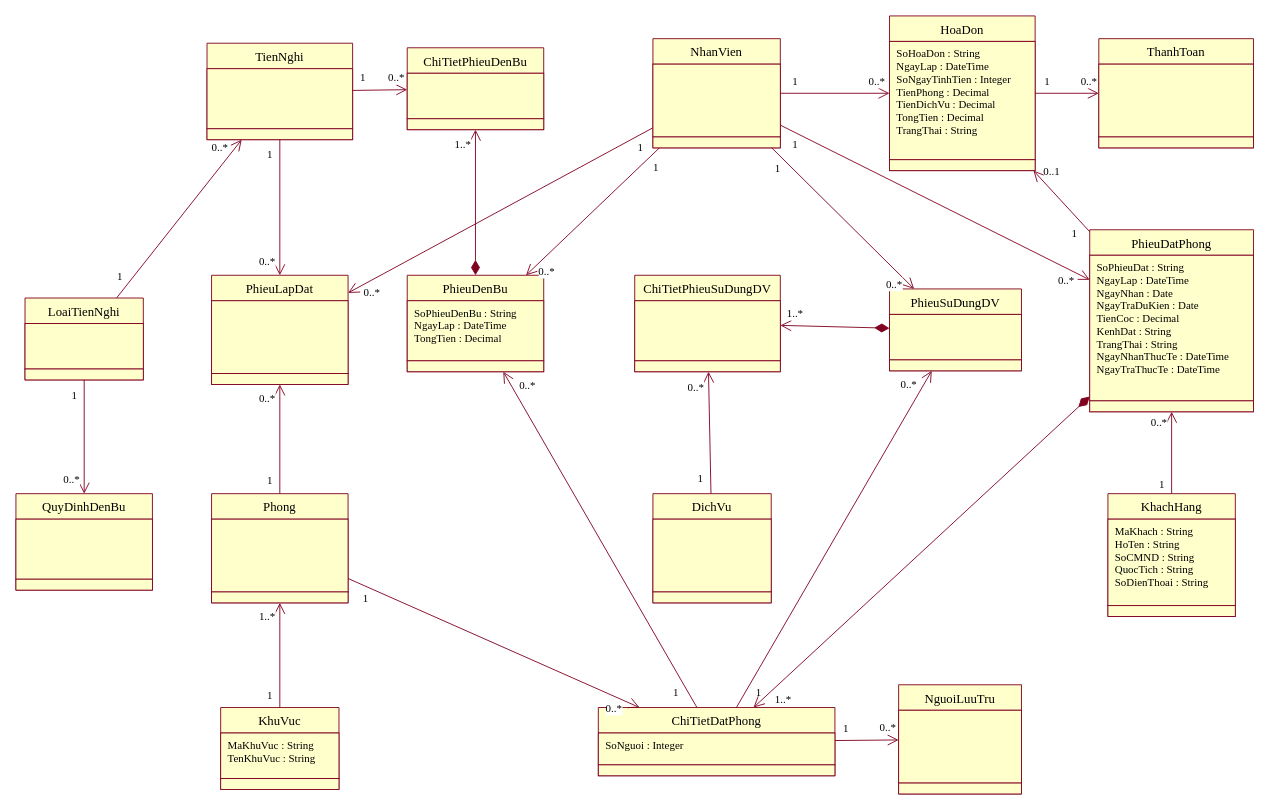
Some shapes in this 1269 by 810 pixel diagram are drawn without their labels. Each missing label, with the centre of its shape:
MaDV : String TenDV : String DonViTinh : String DonGia : Decimal: point 711,555
MaLoaiTN : String TenLoaiTN : String: point 83,346
MaNguoiLT : Integer HoTen : String SoCMND : String QuocTich : String: point 959,746
MaNV : String HoTen : String VaiTro : String SoDienThoai : String: point 716,100
MaQuyDinh : String MucDoThietHai : String MucDenBu : Decimal: point 83,548
MaThanhToan : String NgayThanhToan : DateTime HinhThuc : String SoTien : Decimal: point 1176,100
MaTienNghi : String SoThuTu : Integer TinhTrangHienTai : String: point 279,98
MucDoThietHai : String SoTien : Decimal: point 475,95
SoLuong : Integer DonGia : Decimal ThanhTien : Decimal: point 707,330
SoPhieuLapDat : String NgayLap : Date TinhTrang : String GhiChu : String: point 279,337
SoPhieuSDDV : String NgaySuDung : Date: point 955,336
SoPhong : String SoNguoiToiDa : Integer DonGiaNgay : Decimal TrangThai : String: point 279,555
